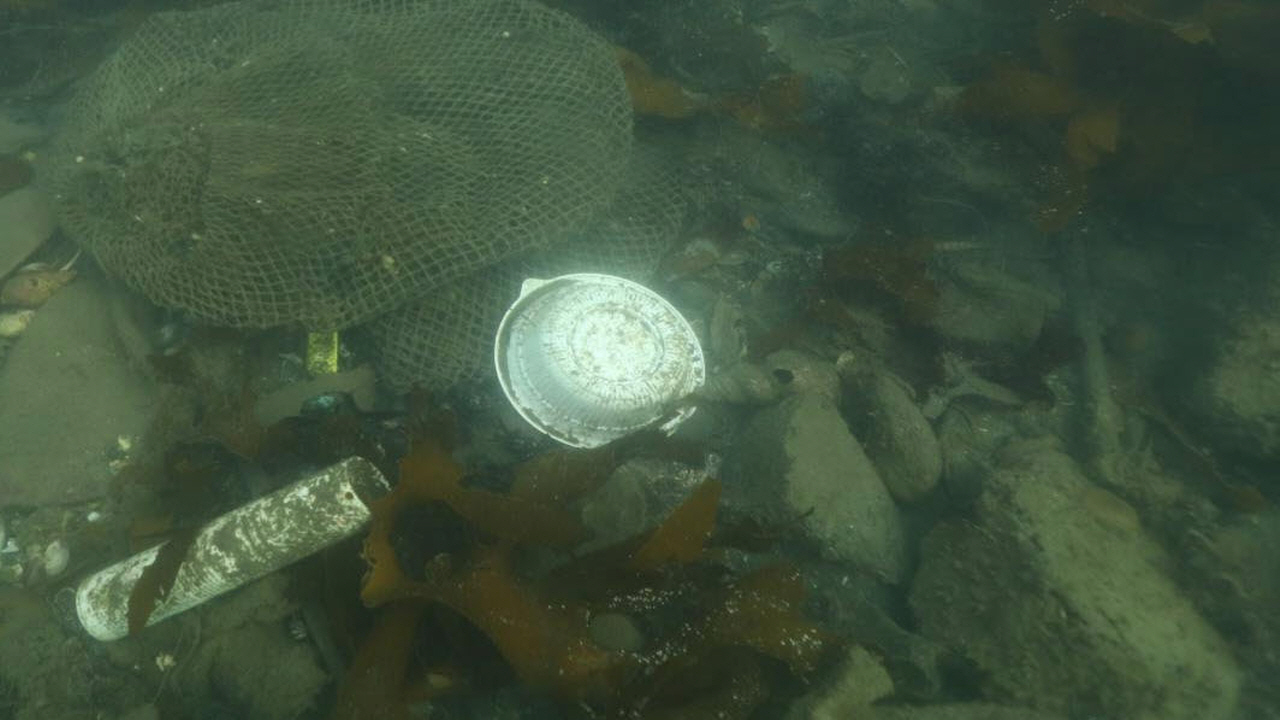fish net: (40, 0, 689, 383)
